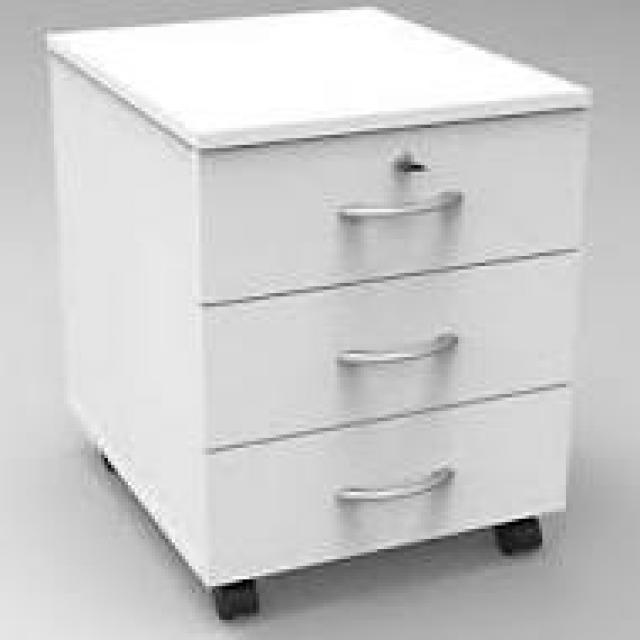mobile-phone: (43, 9, 596, 623)
